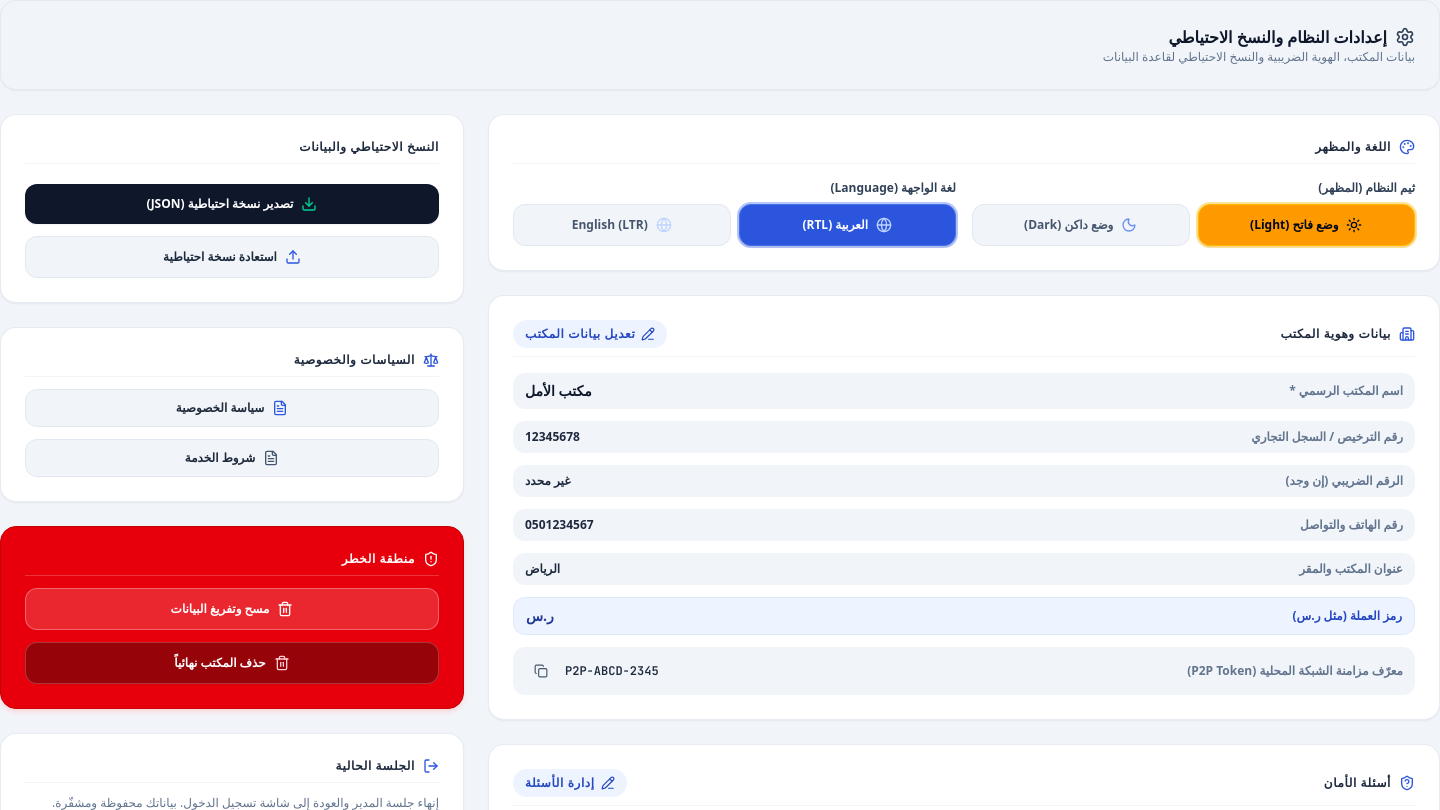
SettingsManager › opens the privacy policy modal with translated content
What coordinates should you click on to do the following:
click the button "سياسة الخصوصية"
I would click on:
 (232, 408)
Its box is [25,389,439,427].
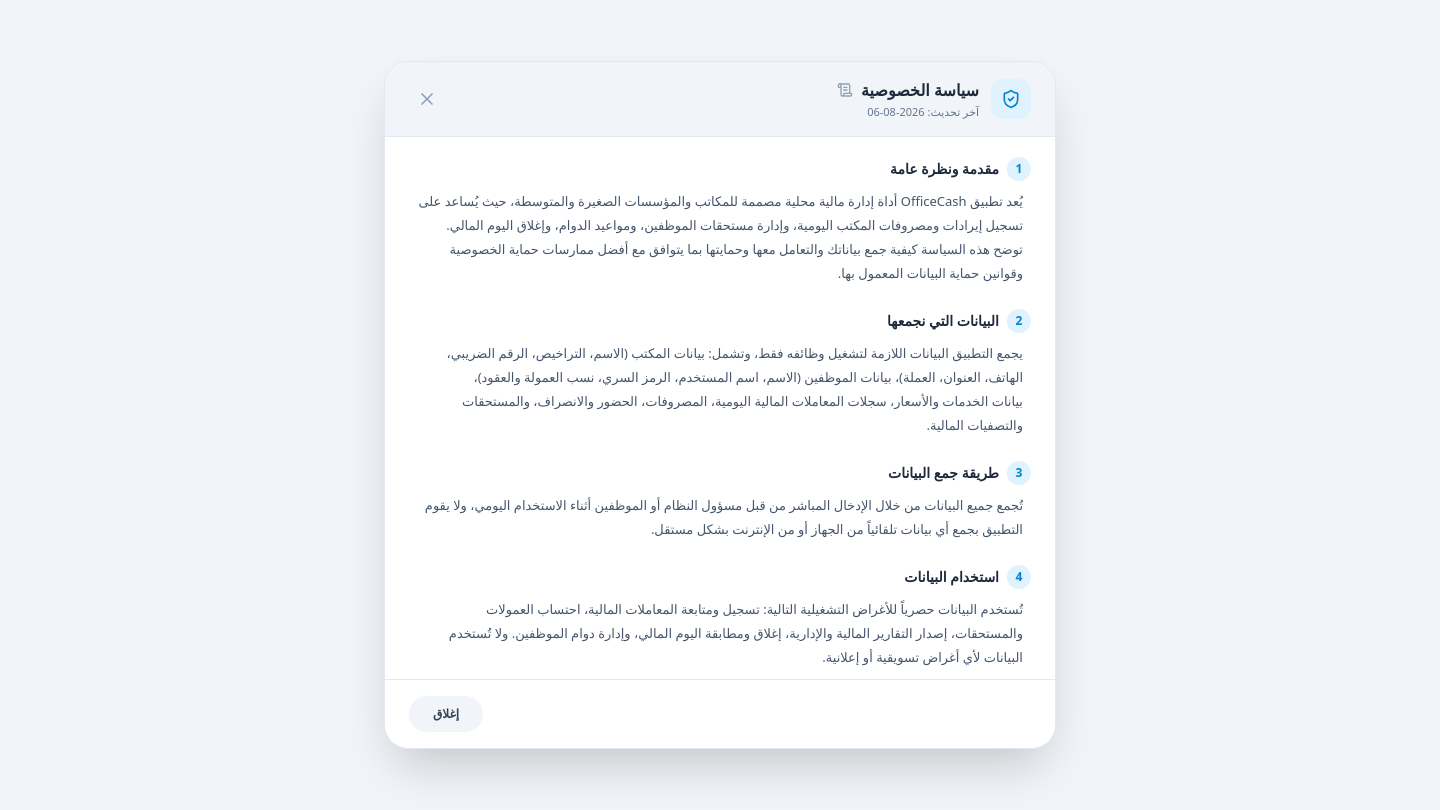
Result: the heading "سياسة الخصوصية" is shown at [837,78,979,102]
Result: the heading "مقدمة ونظرة عامة" is shown at [890,159,999,179]
Result: the text "يُعد تطبيق OfficeCash أداة إدارة مالية محلية مصممة للمكاتب والمؤسسات الصغيرة والمتوسطة، حيث يُساعد على تسجيل إيرادات ومص" is shown at [418,192,1023,282]
